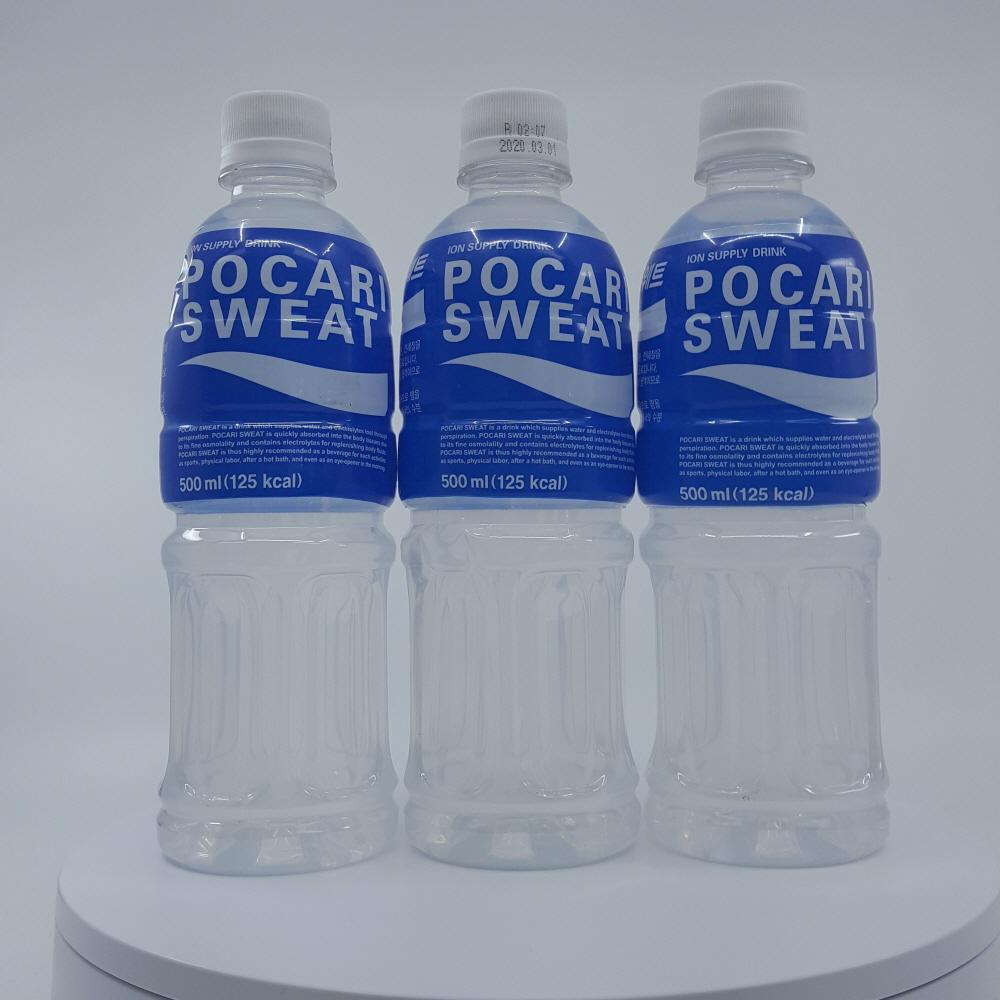pocarisweat: (626, 60, 915, 869), (381, 75, 645, 877), (168, 73, 400, 878)
